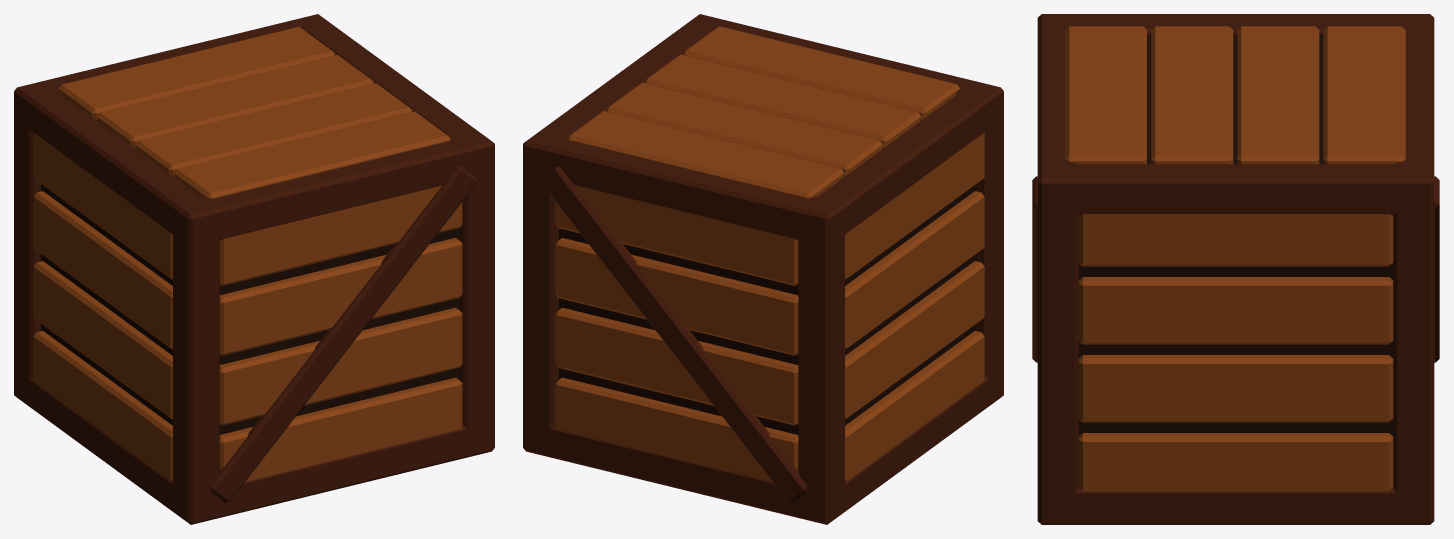
Rendered from myw_crate.obj.
3 renders of one model, left to right at view 1: azimuth 30°, elevation 25°; view 2: azimuth 150°, elevation 25°; view 3: azimuth 270°, elevation 25°, orthographic. The views are drawn at different scales.
Parts seen in each view (by area): view 1: Crate; view 2: Crate; view 3: Crate.
Boxes of the visible parts, box(x1,y1,x2,y2) form: Crate: box(14, 14, 494, 524); Crate: box(523, 14, 1003, 524); Crate: box(1032, 14, 1439, 524).
Size of the model in its own units: 2.9 by 2.84 by 2.98.
